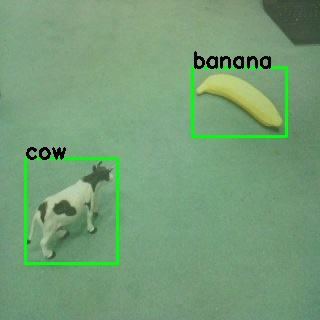banana: (192, 67, 287, 141)
cow: (21, 158, 122, 260)
